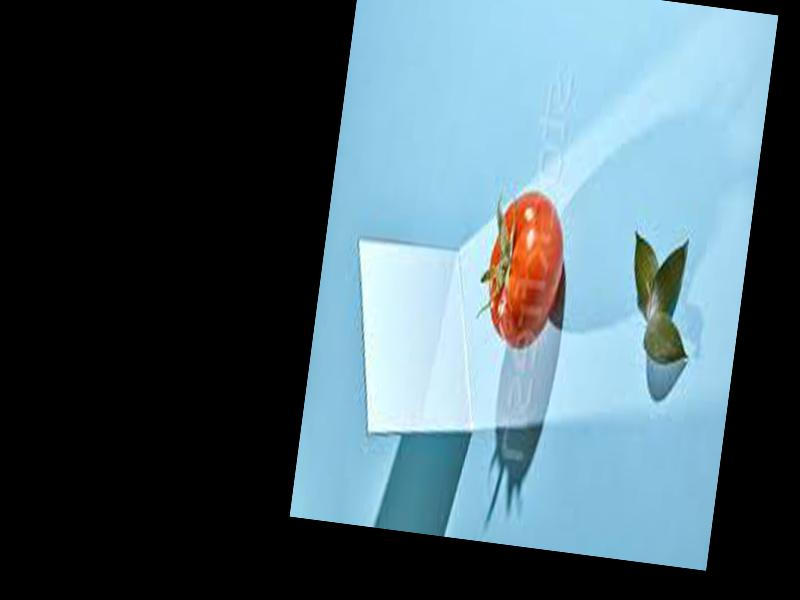Tomato: (478, 183, 572, 353)
